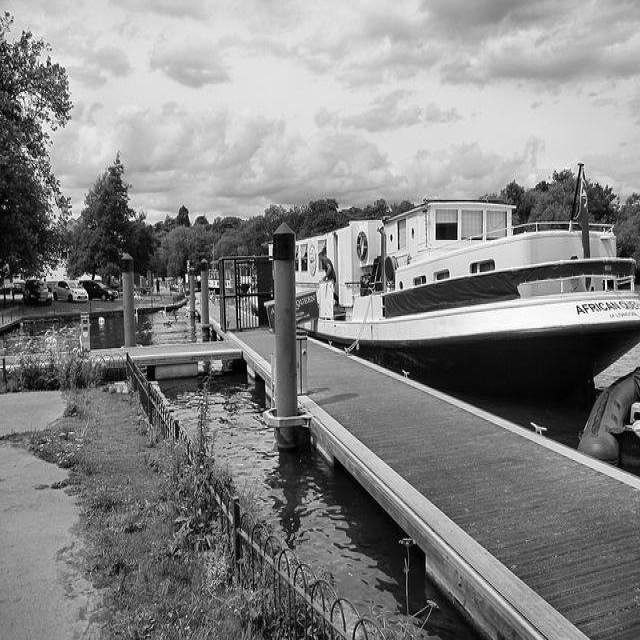vehicle: (52, 278, 88, 305), (23, 279, 53, 307), (82, 282, 118, 303), (14, 284, 22, 294)
